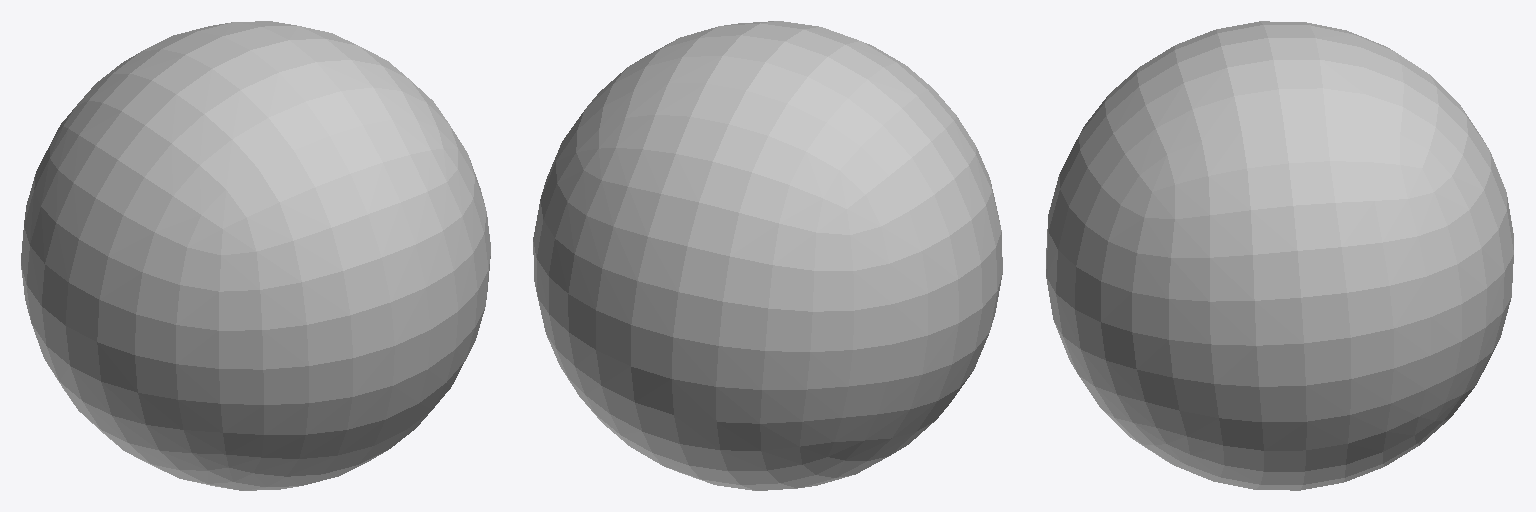
Rendered from earth.obj.
The picture shows the model from 3 angles: view 1: azimuth 30°, elevation 25°; view 2: azimuth 150°, elevation 25°; view 3: azimuth 270°, elevation 25°; orthographic projection.
Parts seen in each view (by area): view 1: Earth_Cube.002; view 2: Earth_Cube.002; view 3: Earth_Cube.002.
Part boxes in pixels (x1,y1,x2,y2): Earth_Cube.002: (21, 21, 490, 490); Earth_Cube.002: (533, 21, 1002, 490); Earth_Cube.002: (1046, 21, 1513, 490).
Bounding box in the file's own units: 6.31 × 6.33 × 6.31.